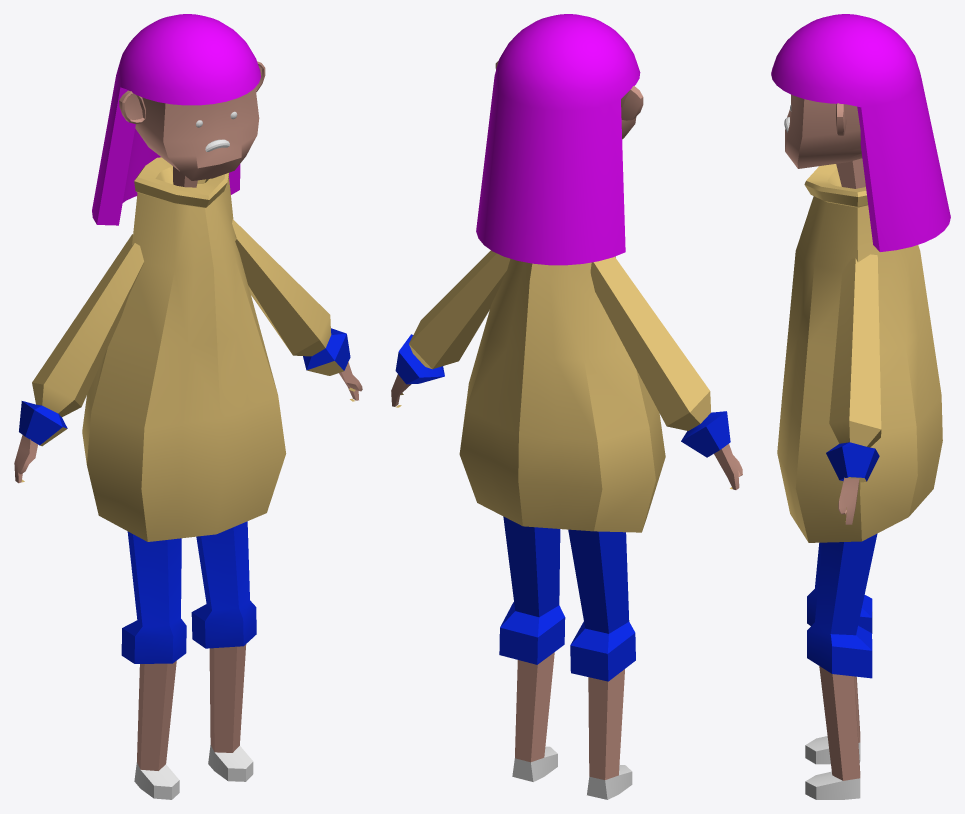
The model's file is Kadın.fbx.
3 renders of one model, left to right at view 1: azimuth 30°, elevation 25°; view 2: azimuth 150°, elevation 25°; view 3: azimuth 270°, elevation 25°, orthographic.
Parts seen in each view (by area): view 1: Cube, Sphere, Cylinder.001, Cylinder, Cube.001, Cylinder.004, Cylinder.008, Cylinder.005, Cylinder.003, Cube.002; view 2: Cube, Sphere, Cylinder, Cylinder.001, Cylinder.004, Cylinder.008, Cylinder.005, Cylinder.003, Cube.002; view 3: Cube, Sphere, Cylinder.001, Cylinder, Cube.001, Cylinder.004, Cylinder.005, Cylinder.008, Cylinder.003, Cylinder.002.
Part boxes in pixels (x1,y1,x2,y2): Cube: [82, 157, 286, 541]; Sphere: [92, 14, 260, 225]; Cylinder.001: [21, 219, 355, 482]; Cylinder: [121, 521, 256, 663]; Cube.001: [135, 87, 259, 180]; Cylinder.004: [137, 644, 246, 770]; Cylinder.008: [19, 328, 350, 445]; Cylinder.005: [134, 745, 253, 799]; Cylinder.003: [14, 361, 362, 483]; Cube.002: [119, 61, 265, 123]; Cube: [459, 256, 665, 532]; Sphere: [476, 14, 640, 265]; Cylinder: [499, 516, 635, 681]; Cylinder.001: [396, 250, 732, 489]; Cylinder.004: [515, 652, 624, 779]; Cylinder.008: [395, 334, 730, 457]; Cylinder.005: [512, 746, 632, 799]; Cylinder.003: [391, 374, 742, 489]; Cube.002: [495, 61, 643, 120]; Cube: [777, 164, 942, 542]; Sphere: [771, 14, 950, 251]; Cylinder.001: [829, 254, 881, 521]; Cylinder: [807, 533, 877, 678]; Cube.001: [785, 94, 862, 168]; Cylinder.004: [819, 666, 860, 780]; Cylinder.005: [805, 736, 860, 799]; Cylinder.008: [826, 442, 879, 481]; Cylinder.003: [838, 477, 859, 524]; Cylinder.002: [836, 158, 864, 188].
Size of the model in its own units: 167 by 352 by 75.96.
